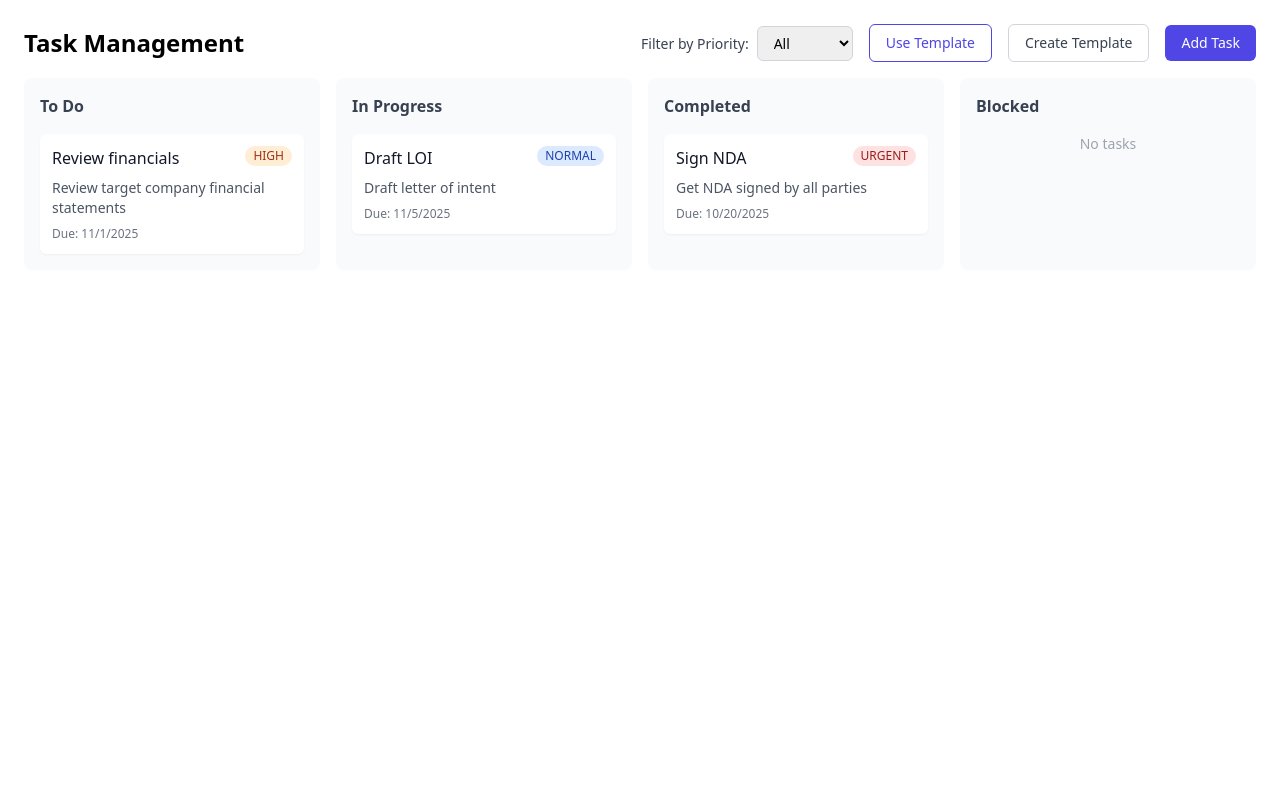
it: TaskBoard › opens create task modal when "Add Task" button is clicked
expect the heading "Review financials" is shown: met, box left=52, top=146, right=179, bottom=170
Click the button "Add Task".
click(1211, 43)  # box left=1166, top=25, right=1256, bottom=61
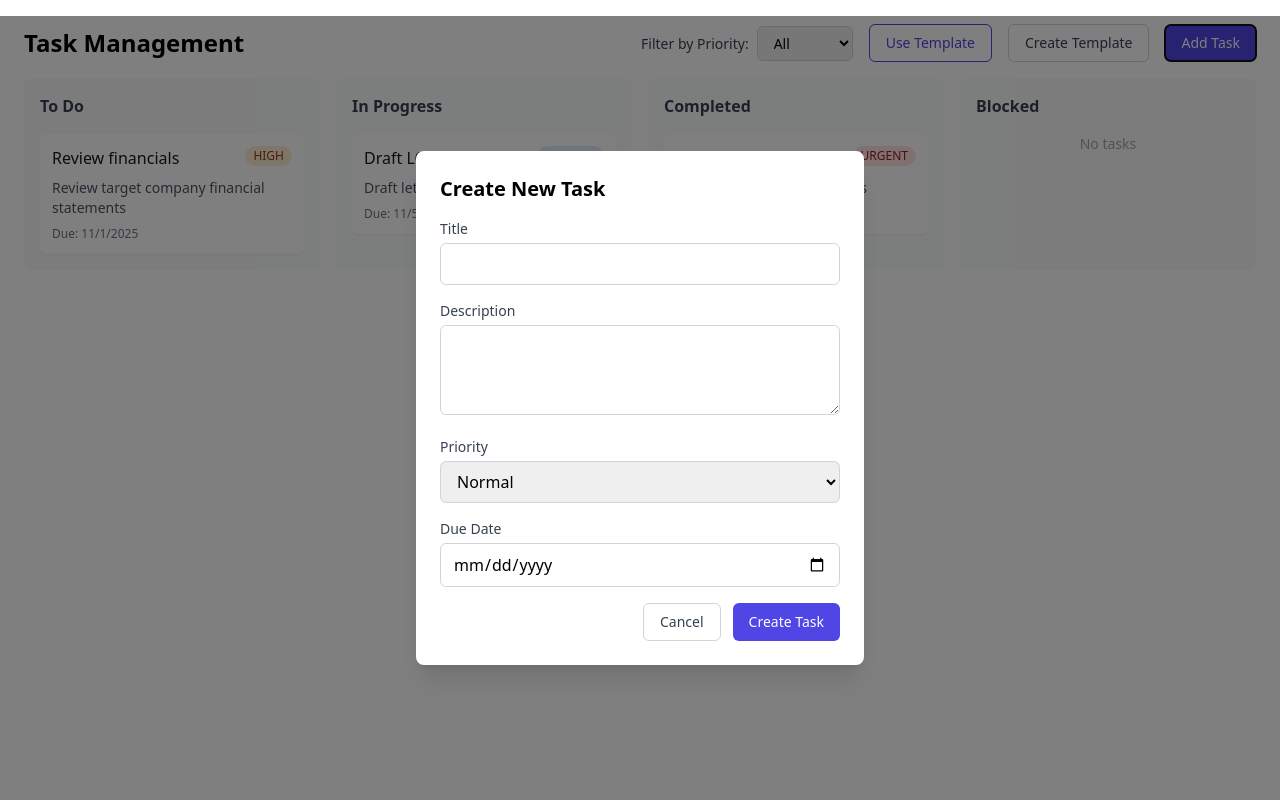
expect the dialog is shown: met, box left=416, top=151, right=864, bottom=665
expect the heading "Create New Task" is shown: met, box left=440, top=175, right=605, bottom=202
